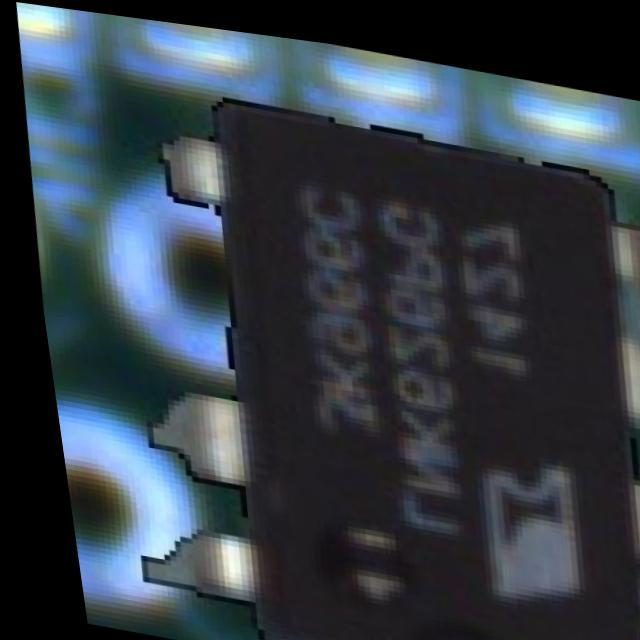IC: (144, 77, 640, 640)
